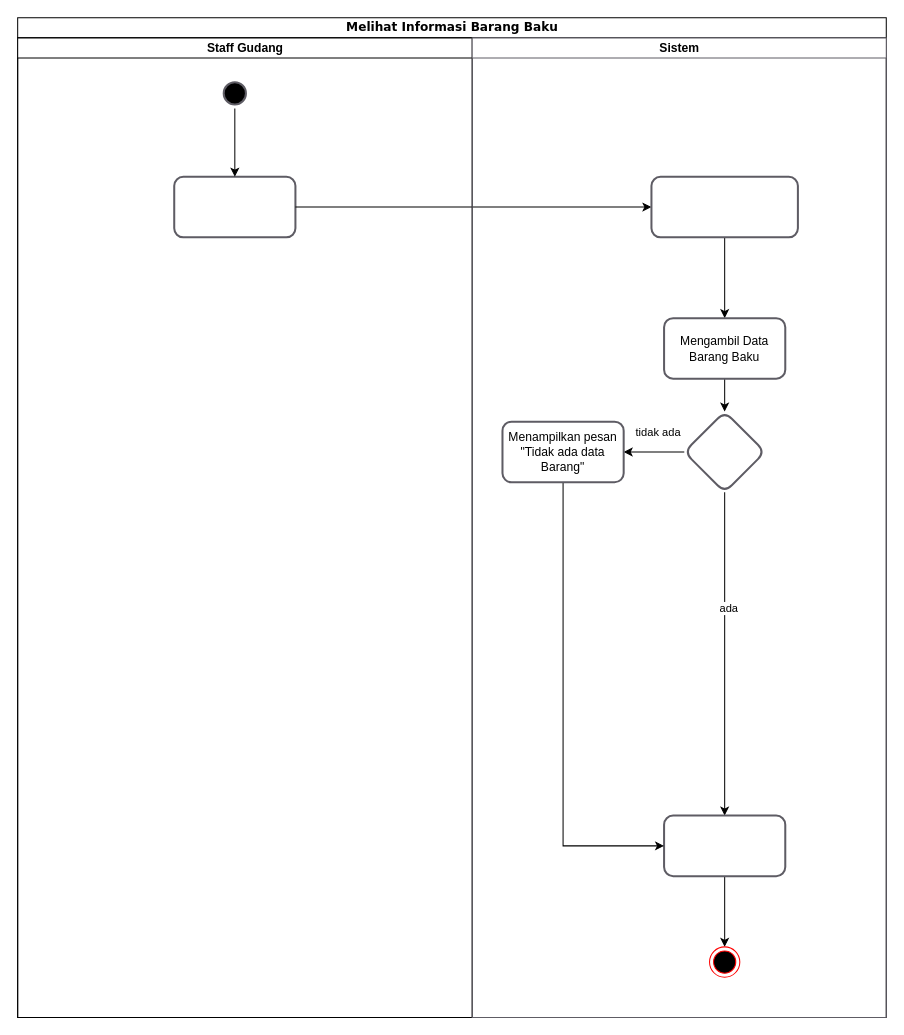
Image size: 904x1035. Some labels were removed from this diagram. Here are the shapes that lost their labels. From the top down, the centre of each, then its label:
(234,206): Klik Tombol "Informasi Barang Baku"
(724,206): Menampilkan Halaman "Informasi Barang Baku"
(724,845): Menampilkan Halaman "informasi data Barang Baku"
